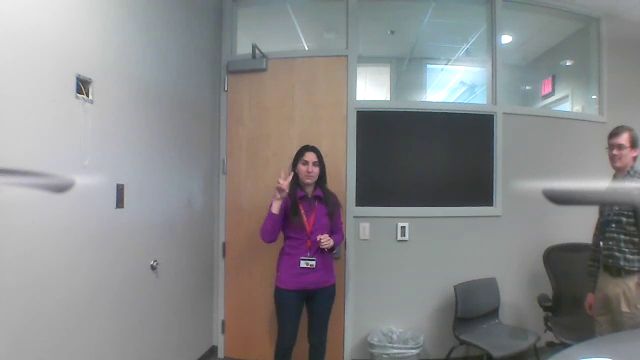peace: (270, 163, 295, 204)
